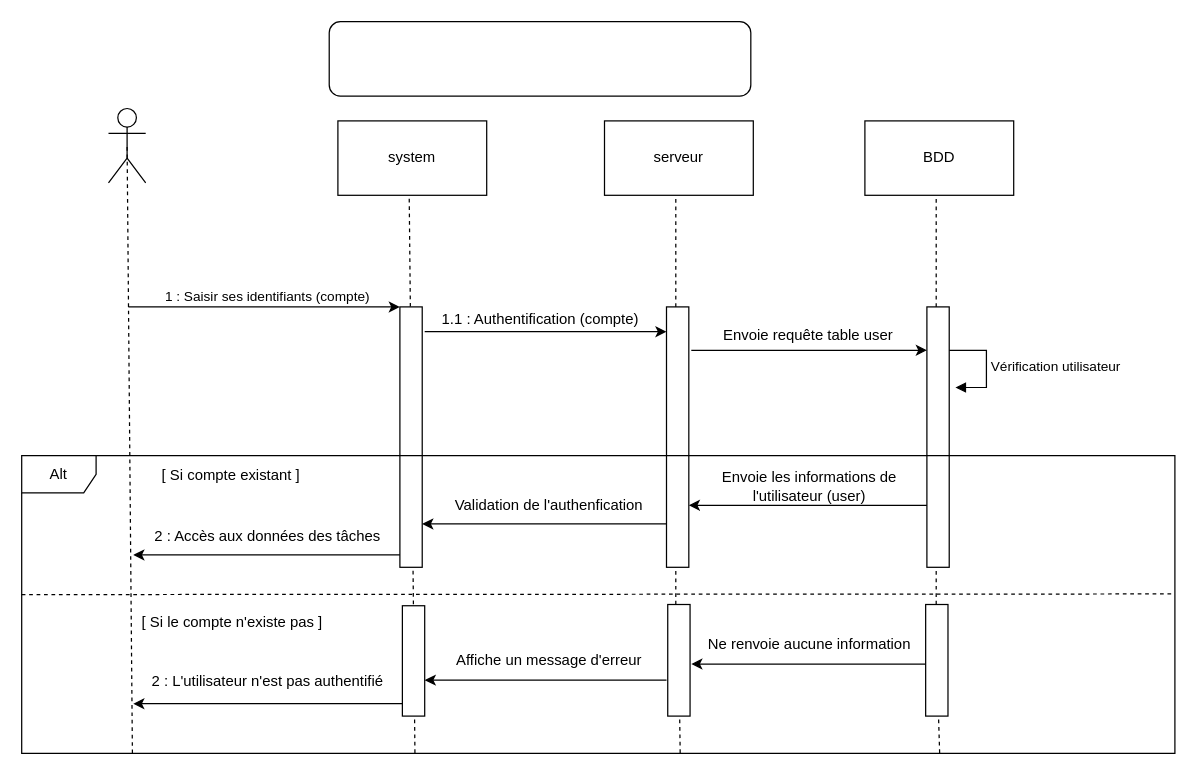
Some shapes in this 1198 by 776 pixel diagram are drawn without their labels. Each missing label, with the centre of its shape:
Diagramme de séquence : Authentification: (x=539, y=58)
Utilisateur ( User ): (x=126, y=145)
